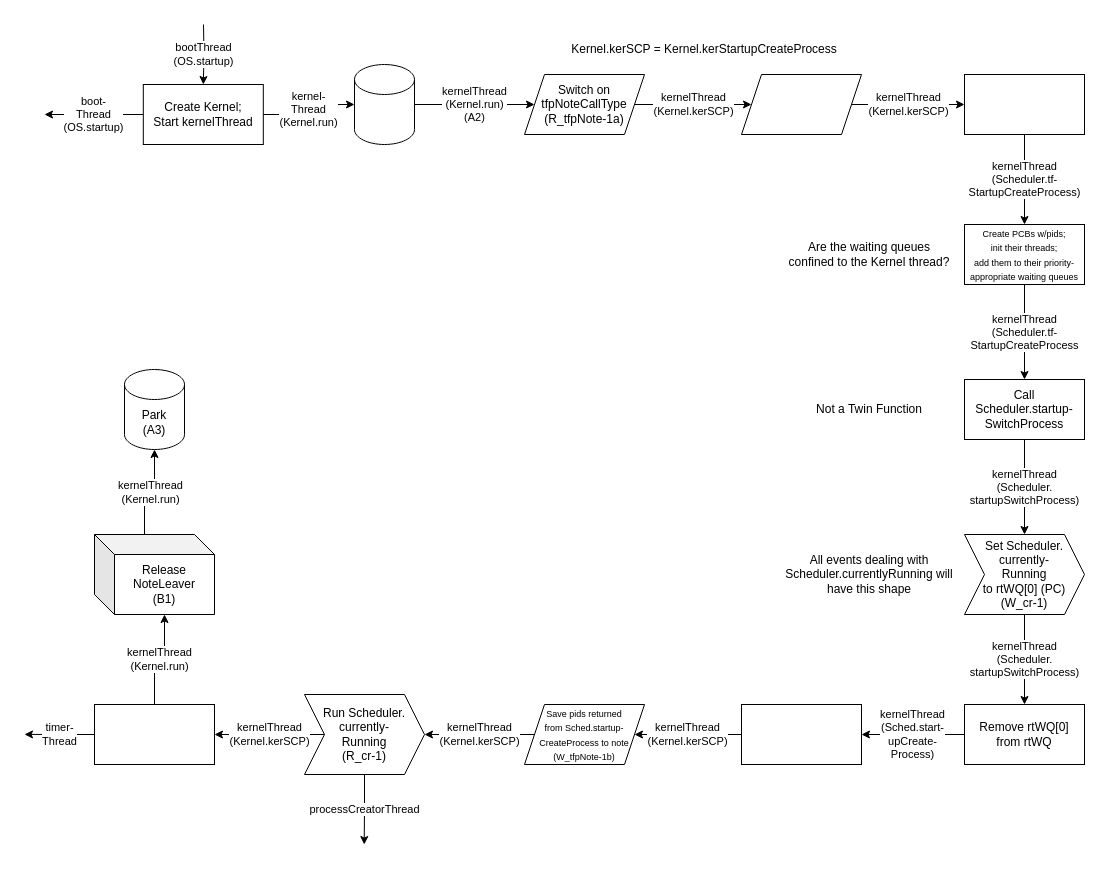
Some shapes in this 1102 by 870 pixel diagram are drawn without their labels. Here are the shapes that lost their labels. From the top down, the box of each, then its label:
(354, 64, 414, 144): Park at Semaphore (A0)
(740, 74, 862, 134): Verify params (R_tfpNote-1a)
(964, 74, 1084, 134): Call Scheduler.tfStart-upCreateProcess, passing in PC, HW, & IP
(94, 704, 214, 764): Start the Timer
(740, 704, 862, 764): Return pids from Scheduler.startup- CreateProcess
